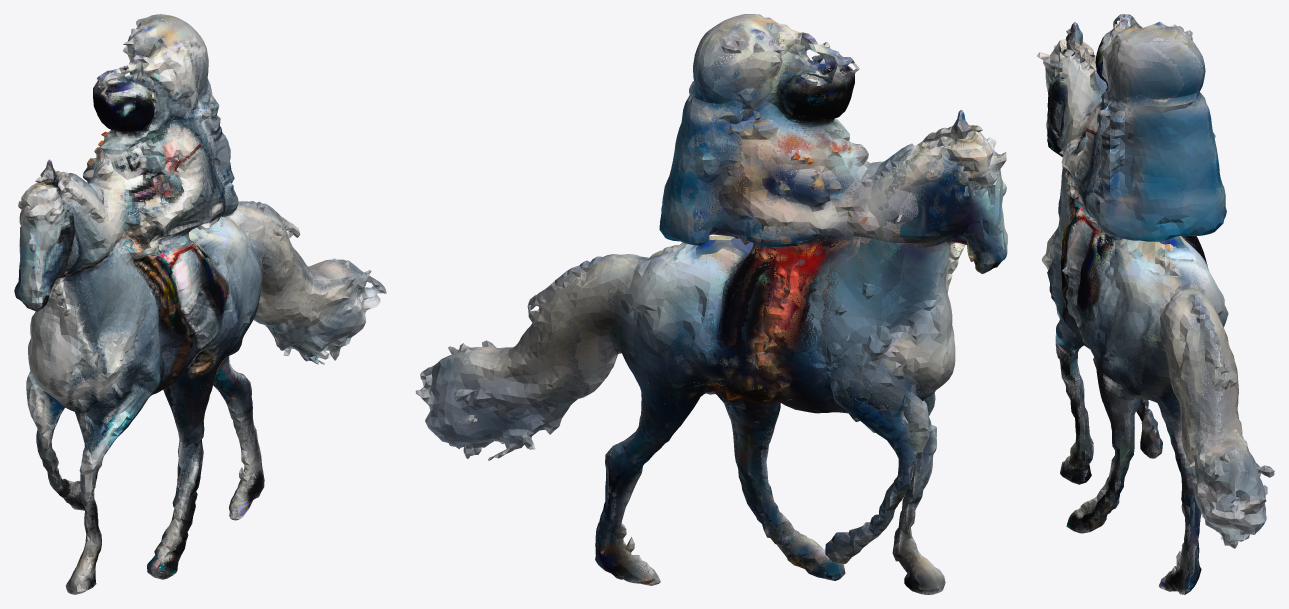
Rendered from astronaut_008.glb.
The picture shows the model from 3 angles, left to right: view 1: azimuth 30°, elevation 25°; view 2: azimuth 150°, elevation 25°; view 3: azimuth 270°, elevation 25°; orthographic projection. The views are drawn at different scales.
Size of the model in its own units: 1.25 by 1.39 by 0.5711.
1 material, 1 textured.
